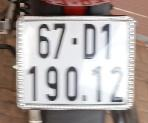0: (63, 64, 80, 101)
1: (26, 64, 42, 103), (99, 21, 113, 60), (92, 65, 105, 104)
2: (109, 62, 131, 107)
6: (33, 22, 52, 60)
7: (52, 17, 66, 61)
9: (43, 63, 61, 104)
D: (80, 20, 99, 61)
